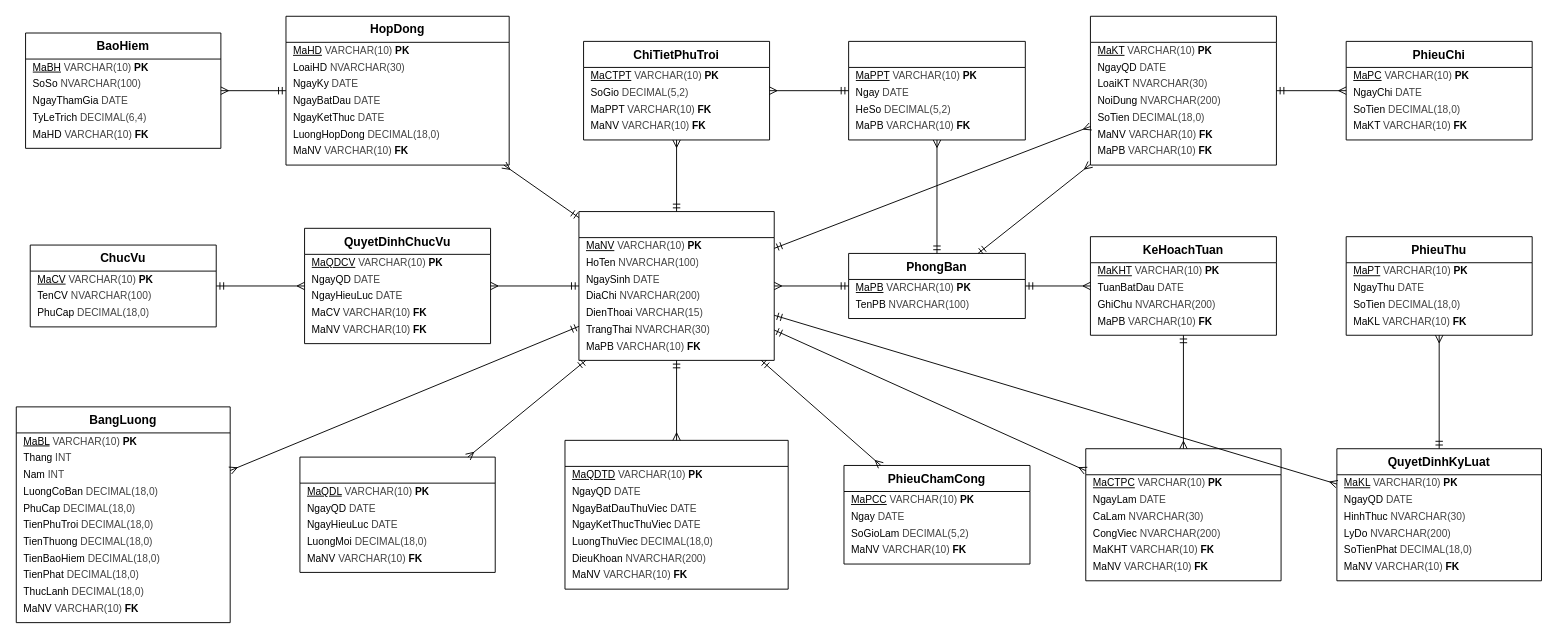
The diagram is 1558 pixels wide and 639 high, and some of its shapes have lost their labels. The shapes that lost their labels are listed below. From the top down, each one's box as (x1, y1, x2, y2) in pixels, then its label:
(848, 40, 1025, 140): PhieuPhuTroi
(1089, 15, 1276, 165): QuyetDinhKhenThuong
(578, 211, 774, 360): NhanVien
(299, 456, 495, 572): QuyetDinhLuong
(564, 439, 788, 589): QuyetDinhTuyenDung
(1085, 448, 1281, 581): ChiTietPhanCong
